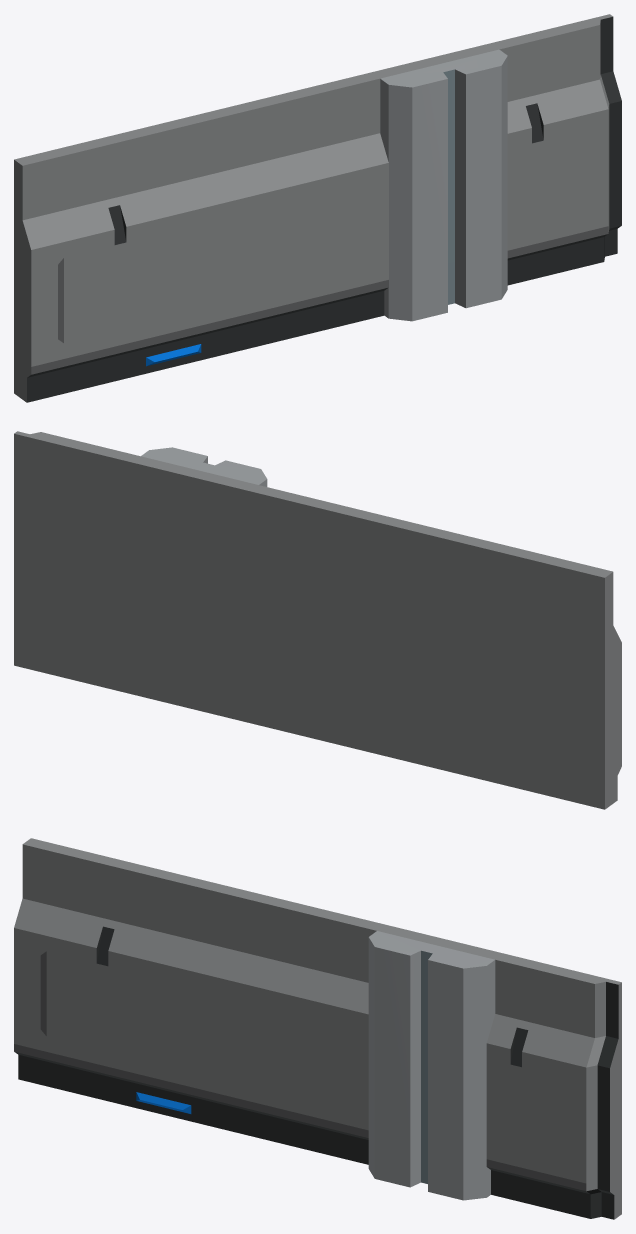
File: Wall_type_B_039.fbx
3 views of the same model, one above another, from view 1: azimuth 30°, elevation 25°; view 2: azimuth 150°, elevation 25°; view 3: azimuth 330°, elevation 25° (orthographic).
Visible parts, largest first — view 1: Wall_type_B_039; view 2: Wall_type_B_039; view 3: Wall_type_B_039.
Part boxes in pixels (x1,y1,x2,y2): Wall_type_B_039: (14,14,621,402); Wall_type_B_039: (14,431,621,809); Wall_type_B_039: (14,838,621,1219).
Size of the model in its own units: 400 by 30 by 150.
